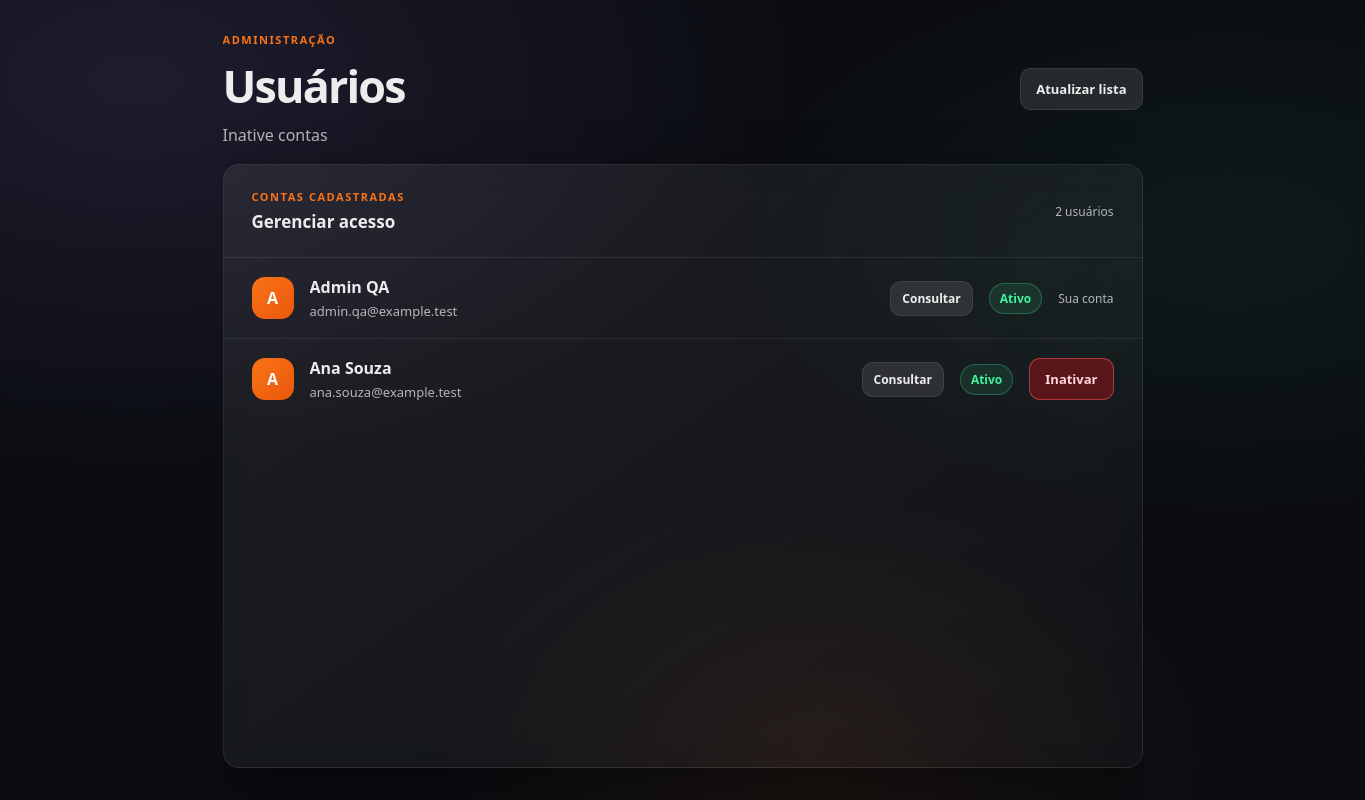
Scenario: RendUP — Sprint 1 — E2E de interface (API simulada) › CT-UI-011 / US-004 e US-007 — administrador consulta usuário sem exibir CPF completo ou senha
Click the button "Consultar" in the row of "ana.souza@example.test" at {"x": 903, "y": 380}, box [862,362,944,397]
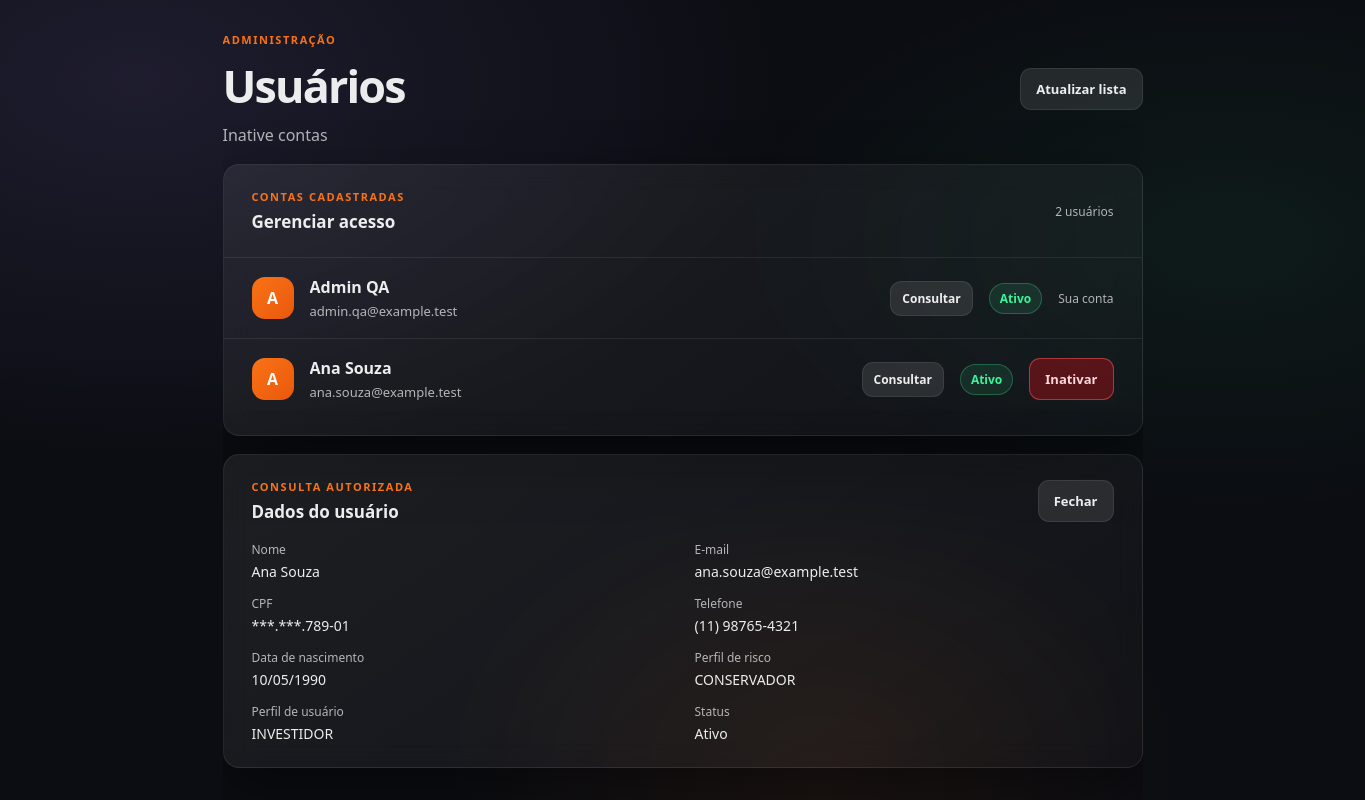
Result: the heading "Dados do usuário" is shown at [252,500,414,523]
Result: the element with class "user-detail-card" shows "***.***.789-01" at [223,454,1143,768]
